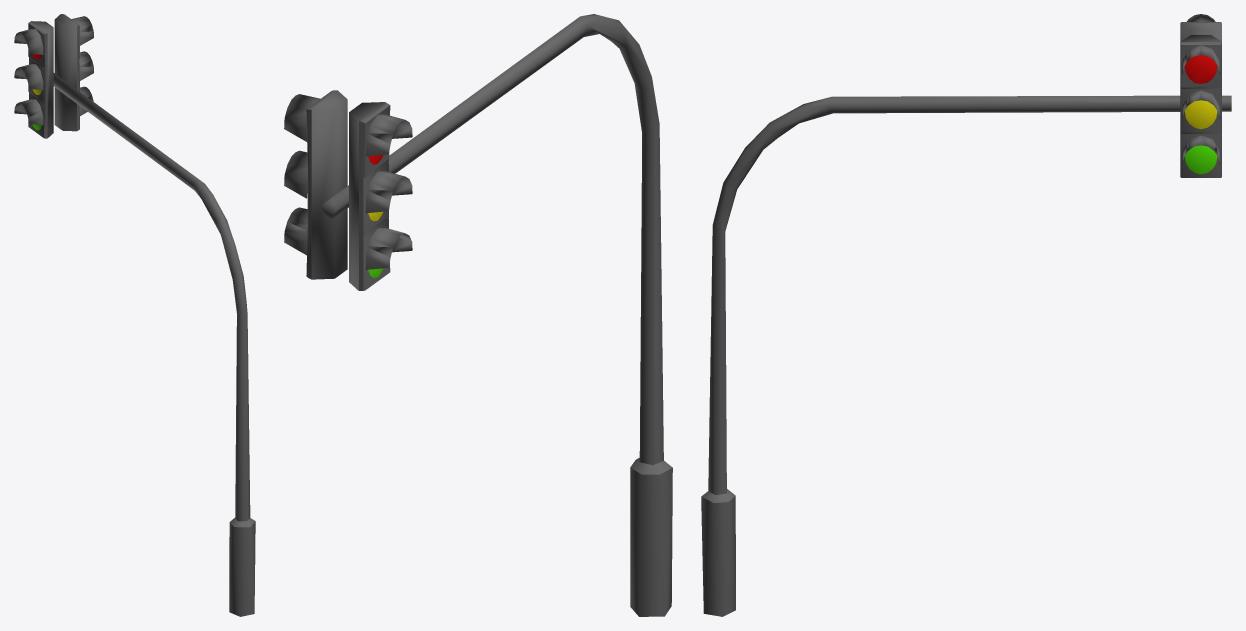
The model's file is TrafficLights.fbx.
3 renders of one model, left to right at view 1: azimuth 30°, elevation 25°; view 2: azimuth 150°, elevation 25°; view 3: azimuth 270°, elevation 25°, orthographic. The views are drawn at different scales.
Visible parts, largest first — view 1: Post, tl_simple_01_2, tl_simple_01_1; view 2: Post, tl_simple_01_2, tl_simple_01_1; view 3: Post, tl_simple_01_2, tl_simple_01_1, tl_simple_01_red_1, tl_simple_01_yellow_1, tl_simple_01_green_1.
Boxes of the visible parts, x1,y1,x2,y2 form: Post: (53, 73, 255, 616); tl_simple_01_2: (54, 14, 93, 131); tl_simple_01_1: (14, 21, 53, 138); Post: (320, 14, 672, 616); tl_simple_01_2: (284, 90, 347, 279); tl_simple_01_1: (349, 102, 412, 290); Post: (701, 95, 1231, 616); tl_simple_01_2: (1180, 35, 1221, 177); tl_simple_01_1: (1180, 14, 1221, 41); tl_simple_01_red_1: (1184, 55, 1217, 83); tl_simple_01_yellow_1: (1184, 100, 1217, 129); tl_simple_01_green_1: (1184, 145, 1217, 174).
Bounding box in the file's own units: 89.32 × 584 × 486.
